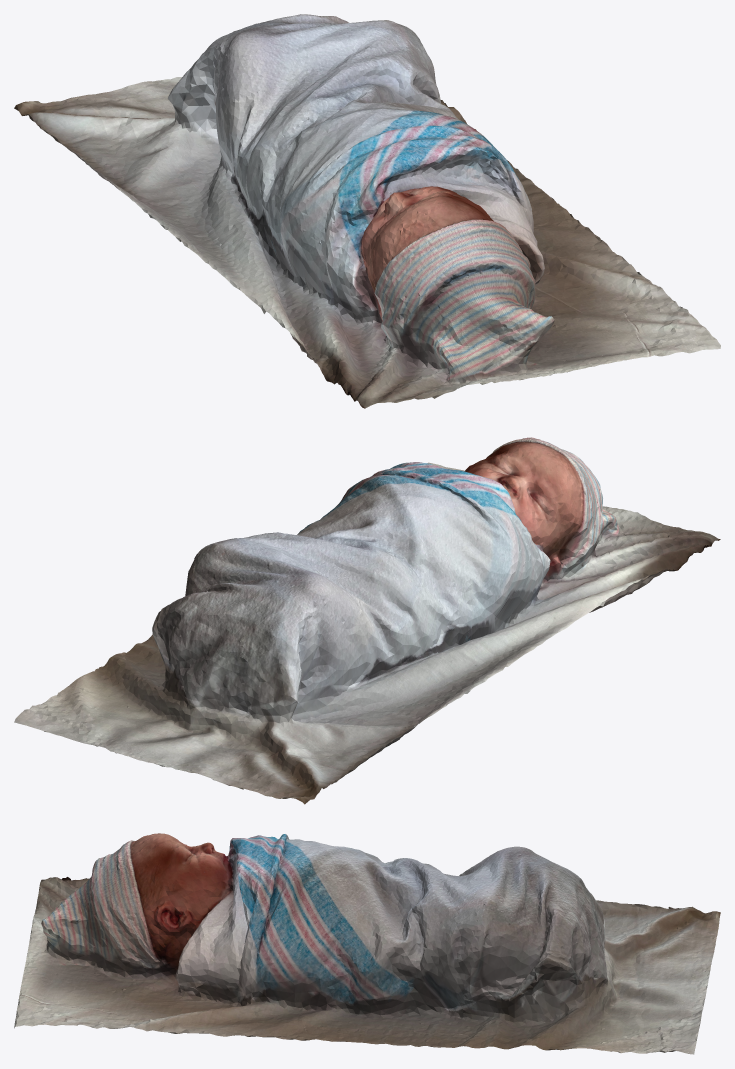
File: copchil2.fbx
3 views of the same model, one above another, from view 1: azimuth 30°, elevation 25°; view 2: azimuth 150°, elevation 25°; view 3: azimuth 270°, elevation 25° (orthographic). The views are drawn at different scales.
Size of the model in its own units: 0.3617 by 0.132 by 0.6638.
Materials: 1 (1 with a texture image).
